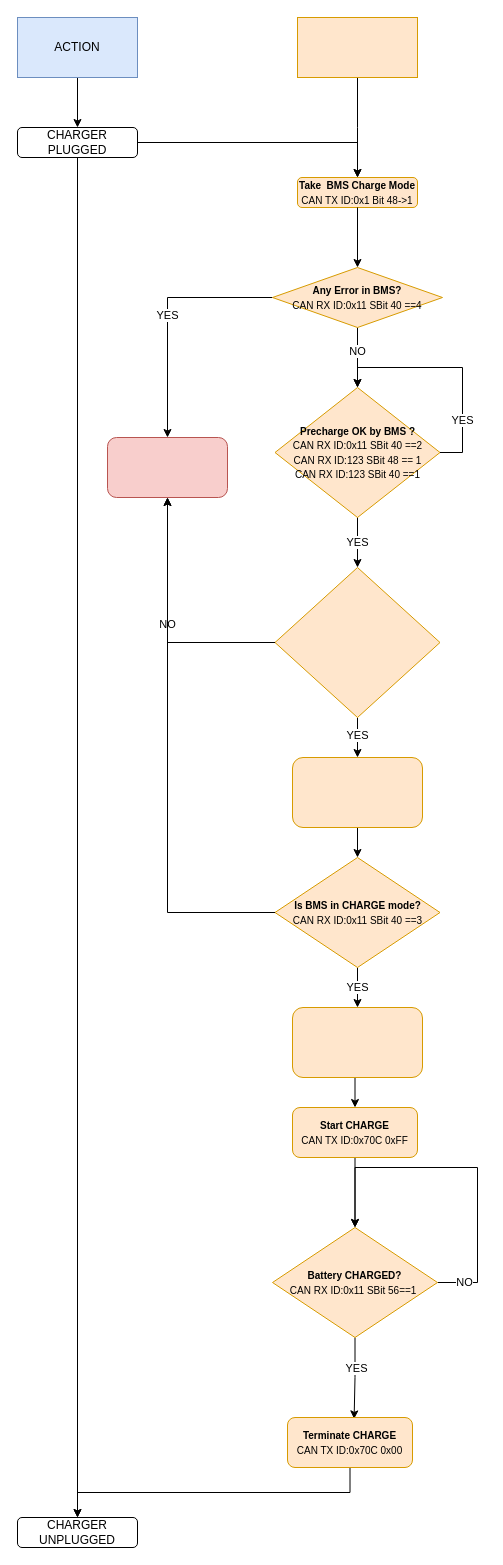
Image size: 503x1565. Some labels were removed from this diagram. The centre of each missing label's shape, as x and y in pixels:
"Complete Precharge CAN TX ID:0x1 SBit 40 ->1 CAN TX ID:0x1 SBit 48 ->1" goes at [357,792].
"ERROR HANDLING" goes at [167,467].
"INVERTER" goes at [357,47].
"Precharge OK by Inv? CAN RX ID:0xC SBit 24 Vdif < thd CAN RX ID:0x1 SBit 48 ==2" goes at [357,642].
"Stage Signal Termination CAN TX ID:0x1 SBit 40 ->1 CAN TX ID:0x1 SBit 48 ->0" goes at [357,1042].
